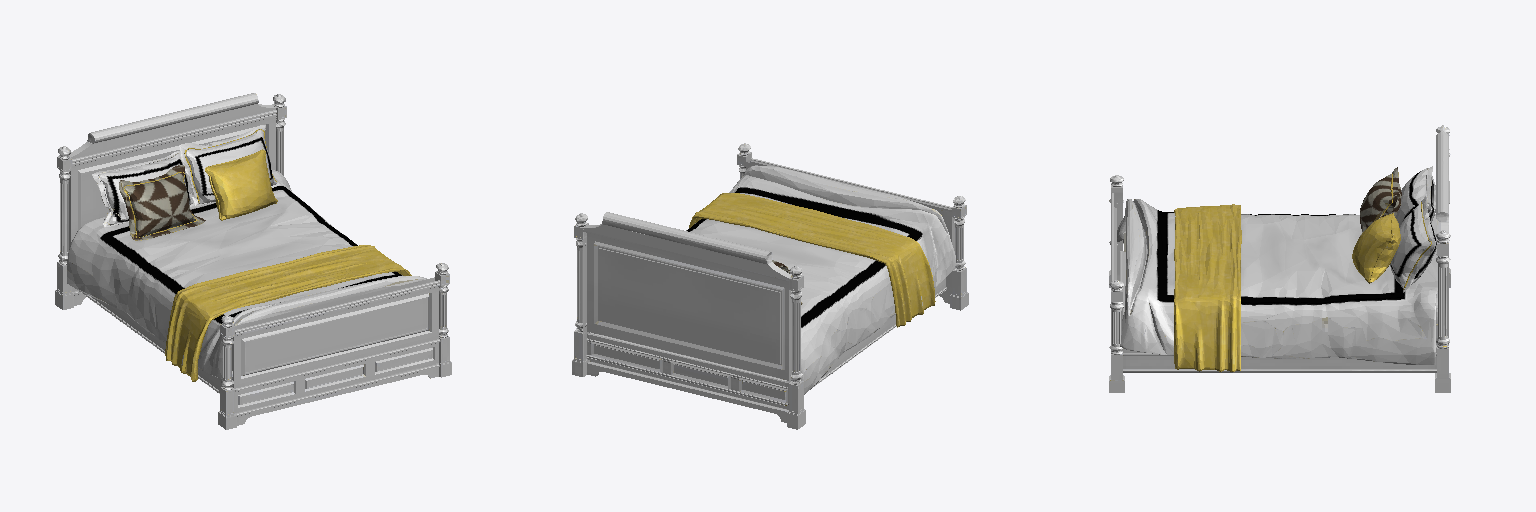
The picture shows the model from 3 angles: view 1: azimuth 30°, elevation 25°; view 2: azimuth 150°, elevation 25°; view 3: azimuth 270°, elevation 25°; orthographic projection.
Visible parts, largest first — view 1: solid_006, solid_003, solid_005, solid_001; view 2: solid_006, solid_003, solid_005; view 3: solid_003, solid_005, solid_006, solid_001.
Boxes of the visible parts, x1=… form: solid_006: x1=55, y1=93, x2=451, y2=429; solid_003: x1=67, y1=125, x2=426, y2=378; solid_005: x1=124, y1=149, x2=411, y2=381; solid_001: x1=119, y1=165, x2=205, y2=240; solid_006: x1=572, y1=143, x2=968, y2=429; solid_003: x1=686, y1=165, x2=955, y2=394; solid_005: x1=689, y1=193, x2=935, y2=327; solid_003: x1=1117, y1=166, x2=1437, y2=364; solid_005: x1=1174, y1=173, x2=1400, y2=371; solid_006: x1=1109, y1=125, x2=1450, y2=392; solid_001: x1=1359, y1=167, x2=1401, y2=237.
Bounding box in the file's own units: 1.62 × 1.11 × 2.06.
Materials: 1 (1 with a texture image).